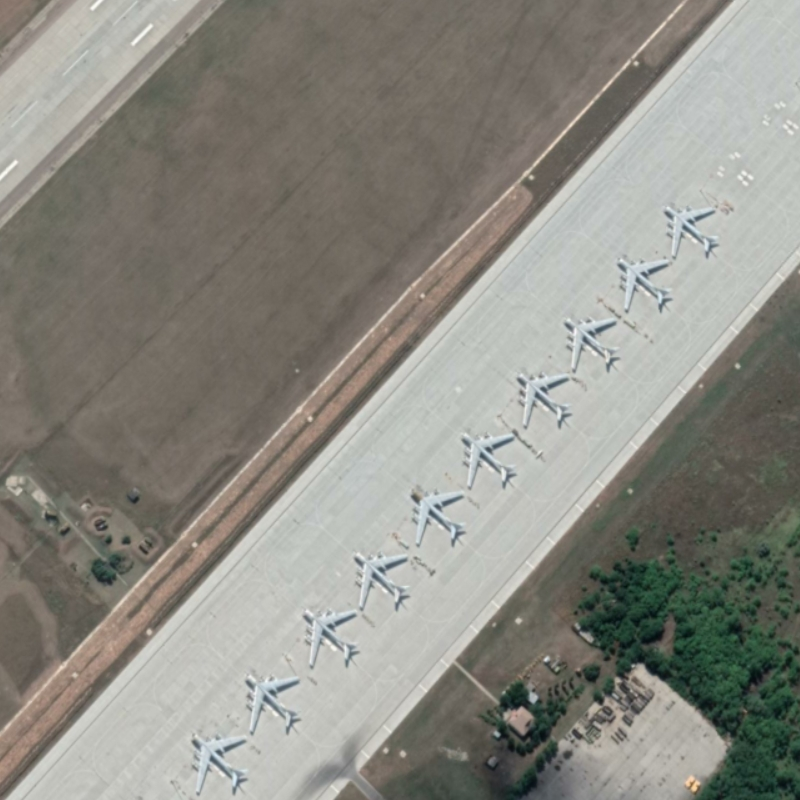A17: (190, 729, 252, 799), (352, 549, 416, 614), (243, 669, 306, 735), (457, 427, 520, 491), (410, 485, 471, 548), (302, 606, 363, 669), (661, 201, 724, 261), (561, 315, 625, 372), (515, 368, 572, 432), (614, 257, 678, 313)
